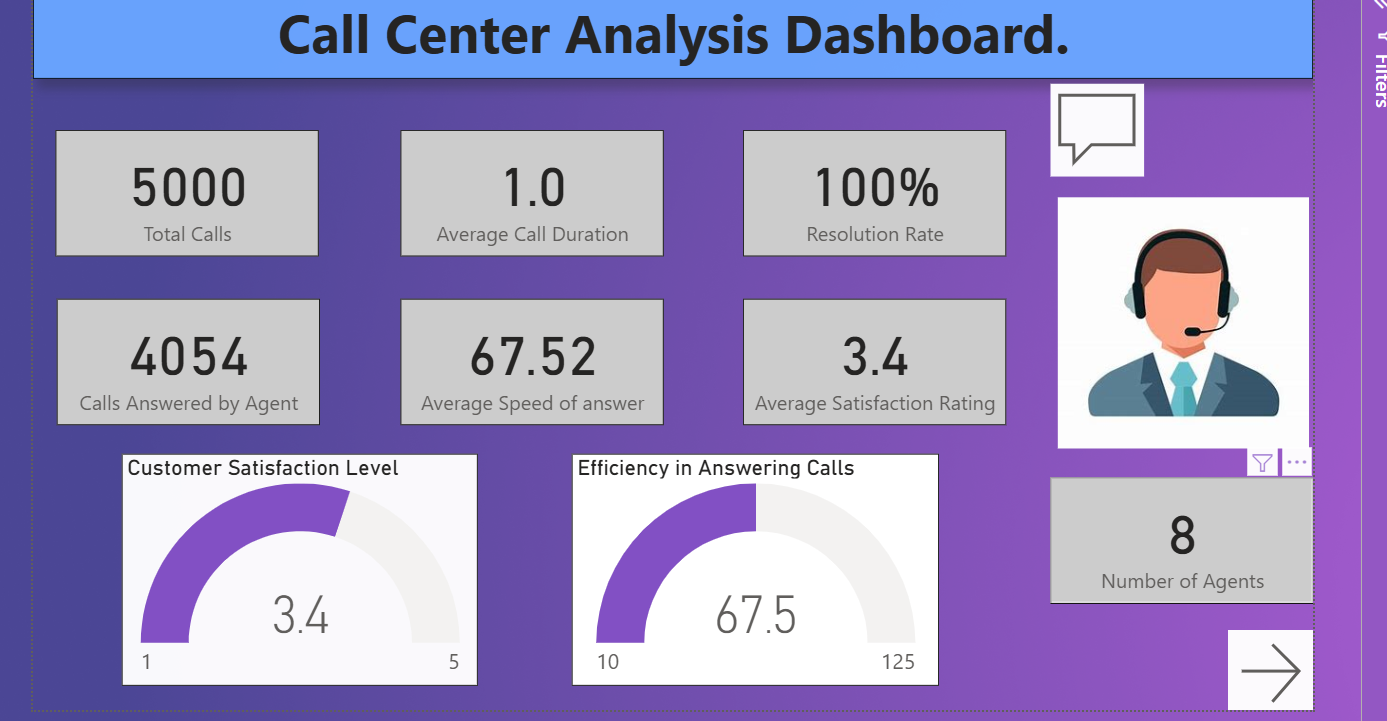

This screenshot's page, from the dashboard's own definition file:
{"tool":"powerbi","page":{"name":"Metrics Overview","canvas":[1280,720],"ordinal":0},"visuals":[{"type":"card","fields":{"Values":["CountNonNull(Call Centre Data.Call Id)"]},"box":[22.2,139.6,263.2,126],"z":0},{"type":"card","fields":{"Values":["Avg(Call Centre Data.AvgTalkDuration)"]},"box":[367,139.6,263.2,126],"z":1000},{"type":"card","fields":{"Values":["Call Centre Data.Resolution Rate"]},"box":[710.6,139.6,263.2,126],"z":2000},{"type":"card","fields":{"Values":["Avg(Call Centre Data.Satisfaction rating)"]},"box":[710.6,308.9,263.2,126],"z":3000},{"type":"card","fields":{"Values":["Avg(Call Centre Data.Speed of answer in seconds)"]},"box":[367,308.9,263.2,126],"z":4000},{"type":"card","fields":{"Values":["Call Centre Data.Calls Answered by Agent"]},"box":[23.5,308.9,263,126],"z":5000},{"type":"gauge","title":"Customer Satisfaction Level","fields":{"Y":["Avg(Call Centre Data.Satisfaction rating)"],"MinValue":["Min(Call Centre Data.Satisfaction rating)"],"MaxValue":["Max(Call Centre Data.Satisfaction rating)1"]},"box":[89,463.4,355.9,232.3],"z":6000},{"type":"gauge","title":"Efficiency in Answering Calls","fields":{"Y":["Avg(Call Centre Data.Speed of answer in seconds)"],"MinValue":["Min(Call Centre Data.Speed of answer in seconds)"],"MaxValue":["Max(Call Centre Data.Speed of answer in seconds)1"]},"box":[538.8,463.4,367,232.3],"z":7000},{"type":"image","box":[1019.5,202.7,260.7,260.7],"z":8000},{"type":"textbox","box":[0,0,1280.3,89],"z":9000},{"type":"card","fields":{"Values":["Count(Call Centre Data.Agent)"]},"box":[1017,486.9,263.2,126],"z":10000},{"type":"actionButton","box":[1017,93.9,93.9,92.7],"z":11000},{"type":"actionButton","box":[1195,640.1,85.3,80.3],"z":12000}]}

Visuals, with their boxes in screenshot pixels (x1, y1, x2, y2):
card - CountNonNull(Call Centre Data.Call Id): Rect(58, 127, 319, 252)
card - Avg(Call Centre Data.AvgTalkDuration): Rect(399, 127, 660, 252)
card - Call Centre Data.Resolution Rate: Rect(739, 127, 1000, 252)
card - Avg(Call Centre Data.Satisfaction rating): Rect(739, 295, 1000, 419)
card - Avg(Call Centre Data.Speed of answer in seconds): Rect(399, 295, 660, 419)
card - Call Centre Data.Calls Answered by Agent: Rect(59, 295, 320, 419)
"Customer Satisfaction Level" gauge: Rect(124, 448, 476, 678)
"Efficiency in Answering Calls" gauge: Rect(569, 448, 932, 678)
image: Rect(1045, 190, 1303, 448)
textbox: Rect(36, 0, 1303, 77)
card - Count(Call Centre Data.Agent): Rect(1042, 471, 1303, 596)
actionButton: Rect(1042, 82, 1135, 174)
actionButton: Rect(1219, 623, 1303, 702)
